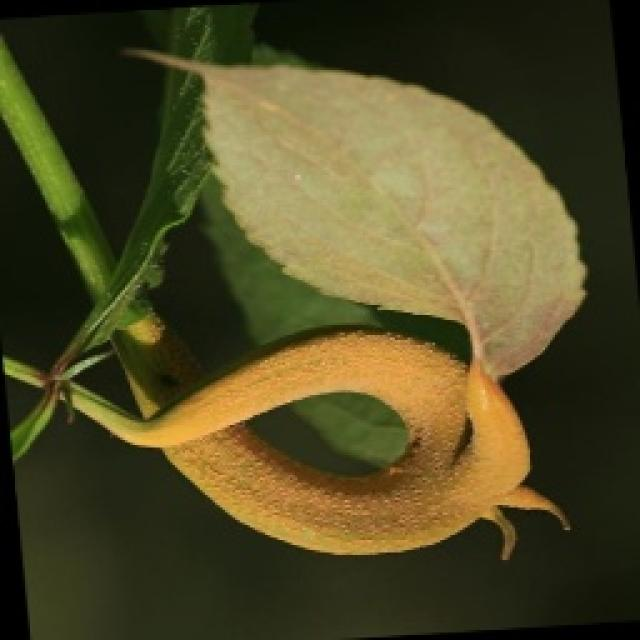Elderberry_rust: (138, 322, 572, 560)
